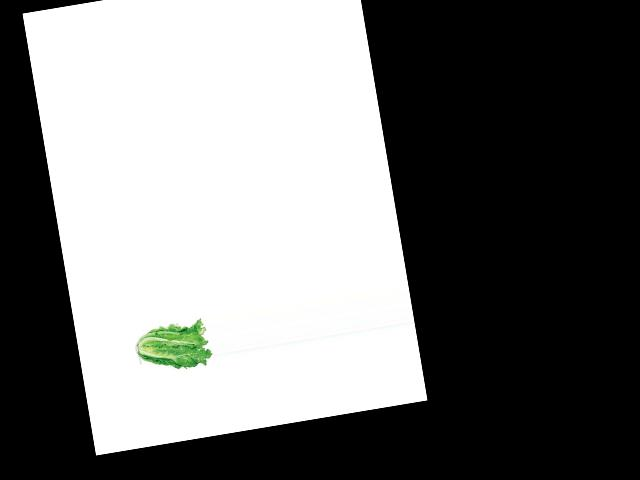lettuce: (134, 316, 213, 376)
